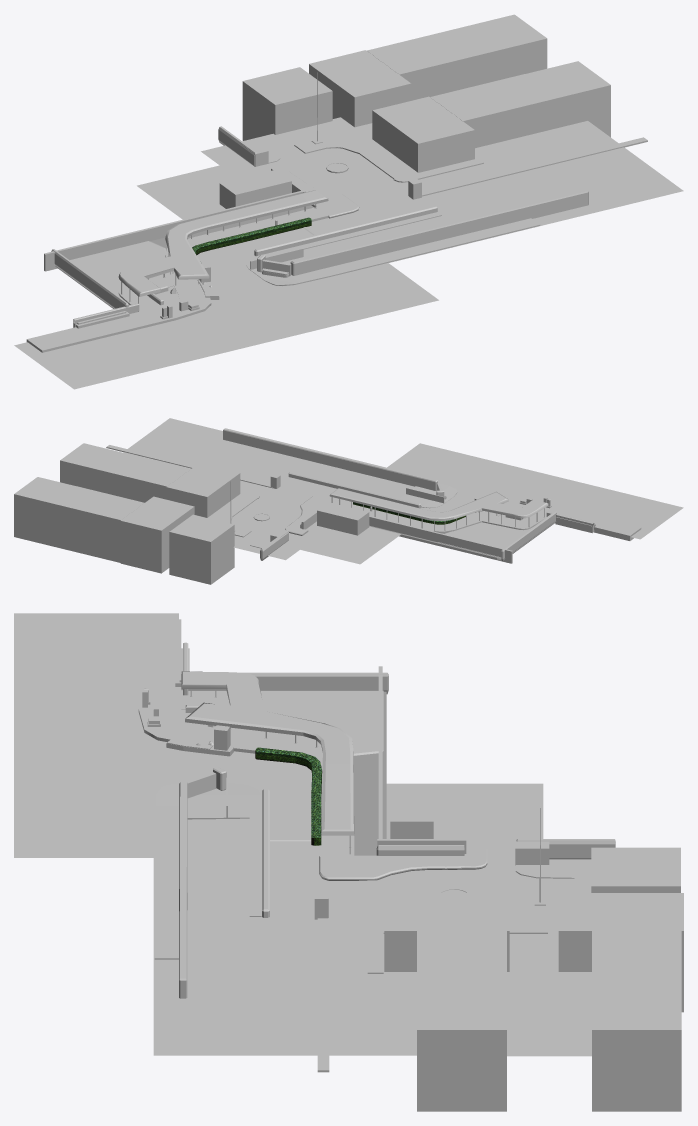
The model's file is entrance.fbx.
3 renders of one model, top to bottom at view 1: azimuth 30°, elevation 25°; view 2: azimuth 150°, elevation 25°; view 3: azimuth 270°, elevation 25°, orthographic. The views are drawn at different scales.
Visible parts, largest first — view 1: polySurface16, pasted__pCube5, b02, polySurface22, pasted__pCube4, I, polySurface9, B, polySurface21, polySurface18, pPlane2, pCube29 (+11 smaller); view 2: polySurface16, b02, pasted__pCube5, I, polySurface22, B, polySurface9, pasted__pCube4, polySurface21, pPlane2, pCube23, pCube62 (+10 smaller); view 3: polySurface16, b02, pasted__pCube5, polySurface22, polySurface21, polySurface18, pPlane2, B, pasted__pCube4, pCube29, I, polySurface17 (+14 smaller).
Part boxes in pixels (left/top/right/bottom): polySurface16: left=14, top=74, right=683, bottom=389; pasted__pCube5: left=430, top=61, right=610, bottom=148; b02: left=367, top=14, right=547, bottom=100; polySurface22: left=26, top=169, right=359, bottom=352; pasted__pCube4: left=372, top=96, right=474, bottom=172; I: left=242, top=67, right=332, bottom=140; polySurface9: left=290, top=189, right=588, bottom=275; B: left=309, top=50, right=411, bottom=127; polySurface21: left=118, top=190, right=328, bottom=296; polySurface18: left=246, top=212, right=540, bottom=285; pPlane2: left=137, top=161, right=252, bottom=219; pCube29: left=70, top=241, right=170, bottom=305; polySurface16: left=77, top=418, right=683, bottom=560; b02: left=14, top=477, right=143, bottom=562; pasted__pCube5: left=60, top=443, right=190, bottom=502; I: left=169, top=514, right=234, bottom=584; polySurface22: left=285, top=495, right=641, bottom=540; B: left=120, top=496, right=194, bottom=573; polySurface9: left=223, top=428, right=437, bottom=490; pasted__pCube4: left=166, top=463, right=240, bottom=517; polySurface21: left=329, top=488, right=548, bottom=520; pPlane2: left=289, top=526, right=400, bottom=564; pCube23: left=369, top=516, right=512, bottom=563; pCube62: left=317, top=502, right=369, bottom=535; polySurface16: left=14, top=613, right=591, bottom=1056; b02: left=592, top=931, right=681, bottom=1111; pasted__pCube5: left=417, top=931, right=506, bottom=1111; polySurface22: left=138, top=619, right=487, bottom=880; polySurface21: left=181, top=671, right=354, bottom=835; polySurface18: left=154, top=783, right=261, bottom=959; pPlane2: left=386, top=783, right=543, bottom=849; B: left=558, top=893, right=683, bottom=1012; pasted__pCube4: left=384, top=893, right=509, bottom=971; pCube29: left=181, top=690, right=383, bottom=755; I: left=591, top=847, right=680, bottom=892; polySurface17: left=181, top=690, right=386, bottom=855.
Size of the model in its own units: 226 by 31.57 by 140.
